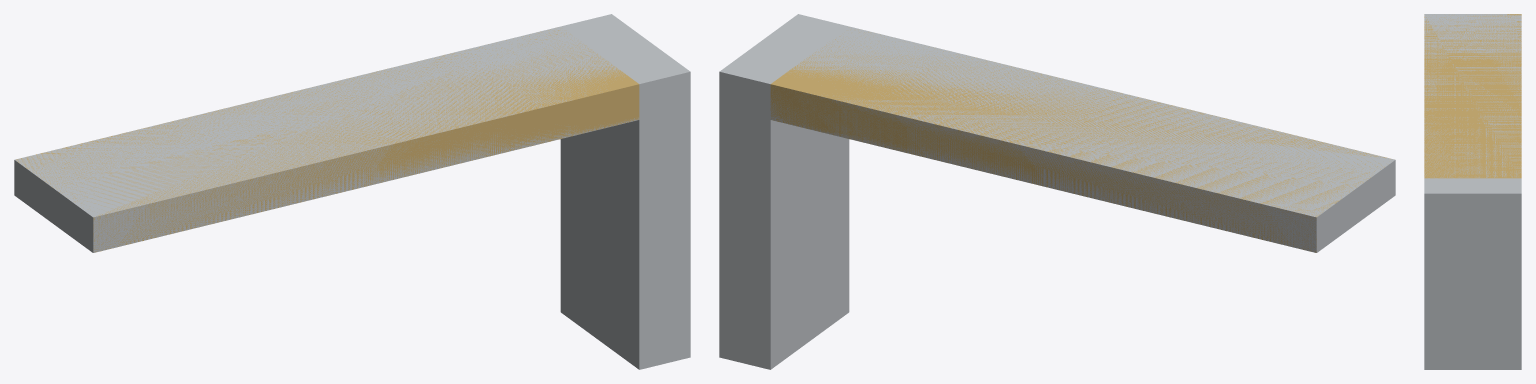
The model's file is step_02.glb.
3 views of the same model, side by side, from view 1: azimuth 30°, elevation 25°; view 2: azimuth 150°, elevation 25°; view 3: azimuth 270°, elevation 25° (orthographic). The views are drawn at different scales.
Visible parts, largest first — view 1: part__encoder bracket, added__encoder bracket; view 2: part__encoder bracket, added__encoder bracket; view 3: part__encoder bracket, added__encoder bracket.
Part boxes in pixels (x1,y1,x2,y2): part__encoder bracket: (14, 14, 690, 369); added__encoder bracket: (16, 29, 639, 251); part__encoder bracket: (719, 14, 1395, 369); added__encoder bracket: (770, 32, 1390, 252); part__encoder bracket: (1424, 14, 1521, 369); added__encoder bracket: (1424, 14, 1521, 178).
Bounding box in the file's own units: 350 × 160 × 80.
